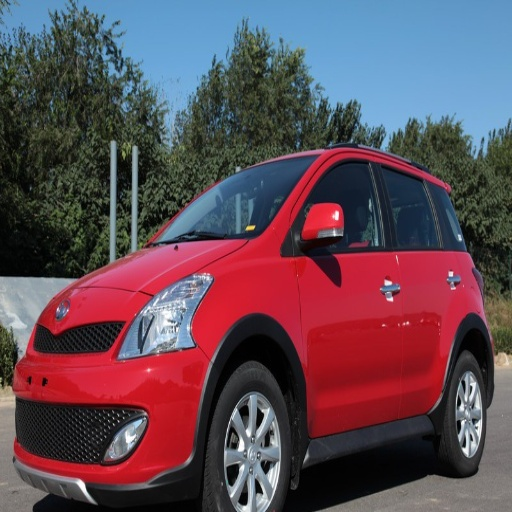front_bumper: (44, 288, 217, 498)
front_glass: (152, 159, 314, 246)
front_left_door: (291, 156, 401, 431)
trunk: (19, 348, 62, 400)
